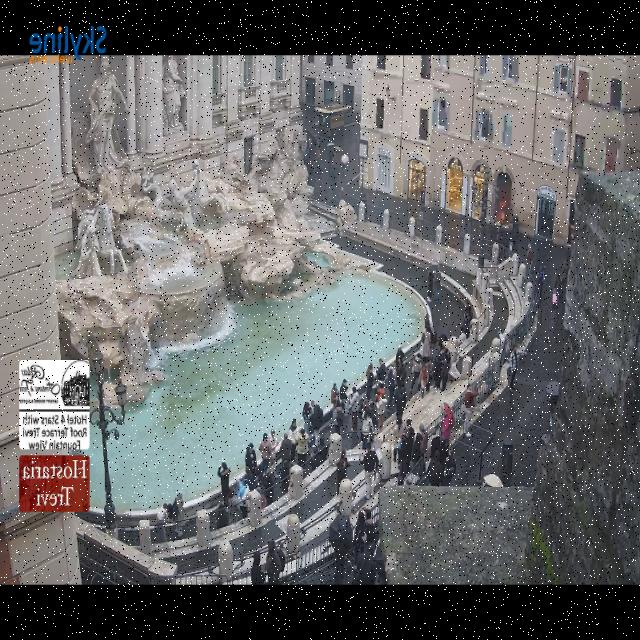person: (84, 62, 128, 174), (162, 56, 184, 130), (360, 443, 377, 499), (354, 544, 375, 584), (265, 540, 282, 583), (464, 384, 477, 437), (227, 488, 247, 518), (309, 437, 327, 470), (336, 450, 349, 494), (310, 400, 322, 447), (353, 510, 365, 556), (244, 443, 256, 489), (156, 503, 170, 542), (258, 433, 271, 474), (391, 418, 403, 462), (217, 463, 229, 505), (441, 449, 455, 485), (398, 432, 409, 477), (296, 428, 309, 466), (427, 451, 441, 485), (280, 433, 291, 476), (173, 492, 183, 537), (349, 386, 359, 430), (376, 388, 386, 430), (288, 419, 297, 465), (361, 412, 372, 449), (409, 355, 420, 392), (405, 419, 414, 464), (509, 346, 518, 390), (251, 551, 263, 584), (261, 472, 273, 505), (432, 352, 442, 390), (419, 424, 427, 471), (394, 386, 405, 419), (411, 432, 422, 465), (440, 438, 449, 478), (387, 365, 395, 410), (364, 509, 374, 543), (280, 458, 289, 494), (441, 356, 450, 392), (268, 430, 275, 475), (424, 357, 433, 391), (302, 402, 311, 435), (365, 363, 373, 399), (334, 402, 343, 434), (440, 413, 451, 439), (419, 363, 427, 398), (395, 360, 405, 388), (525, 244, 533, 278), (536, 265, 544, 299), (429, 329, 437, 361), (429, 435, 439, 458), (376, 358, 385, 383), (426, 271, 433, 302), (394, 345, 403, 369), (330, 383, 338, 409), (374, 382, 384, 402), (339, 379, 347, 401), (434, 268, 439, 303), (418, 332, 424, 358), (552, 286, 557, 310)
